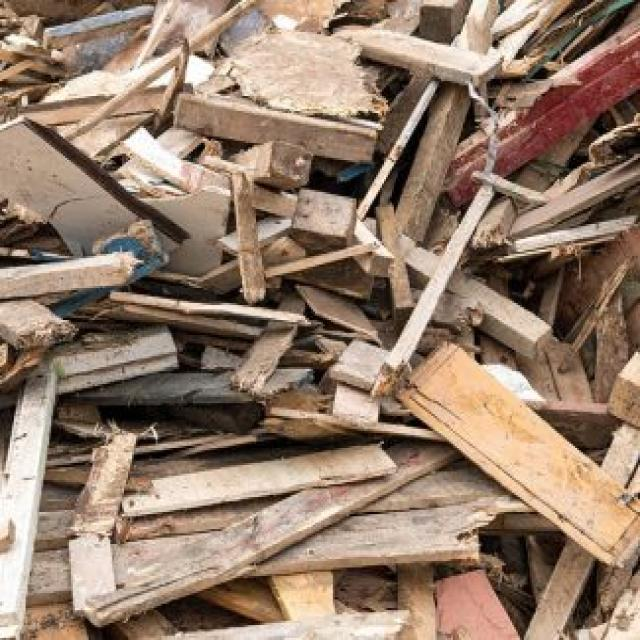green waste: (5, 0, 636, 639)
